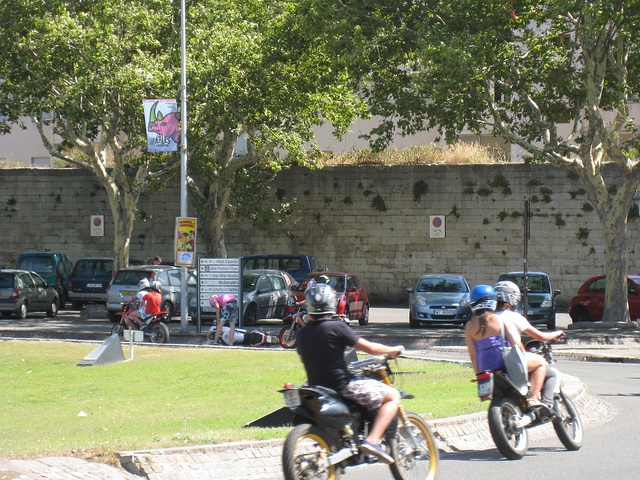non-vehicle: (249, 354, 436, 473), (470, 334, 583, 462), (277, 301, 354, 349), (109, 287, 169, 343), (206, 318, 278, 348)
